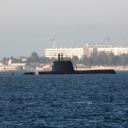submarine: (12, 52, 119, 77)
